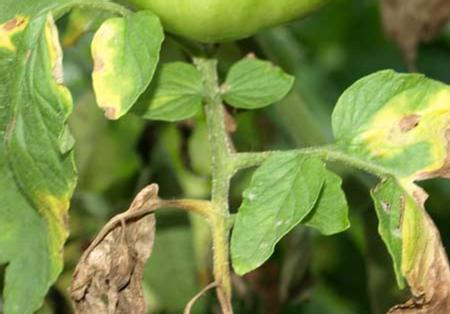Tomato Early blight leaf: (0, 16, 72, 314), (329, 54, 450, 180), (79, 0, 169, 131)
Tomato leaf: (222, 155, 335, 276)
